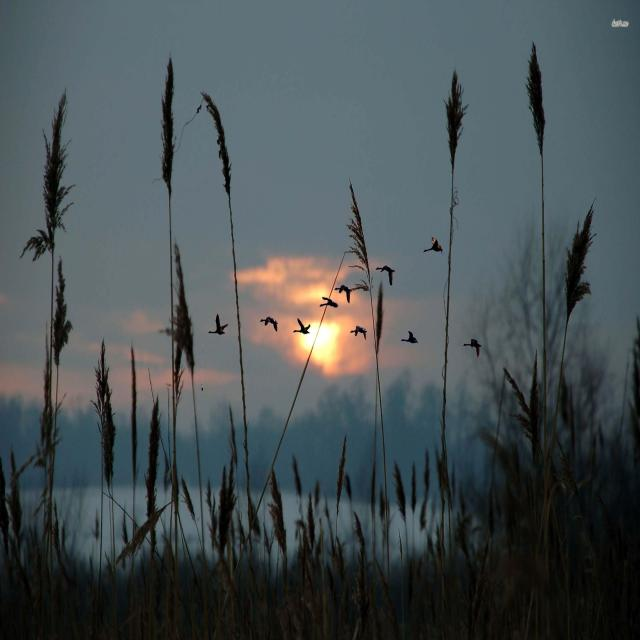bird: (210, 314, 230, 336), (377, 264, 397, 286), (335, 285, 354, 304), (465, 338, 483, 358), (424, 237, 445, 254), (260, 315, 279, 331), (321, 296, 340, 311), (296, 317, 312, 334), (401, 331, 419, 346), (350, 326, 366, 341)
